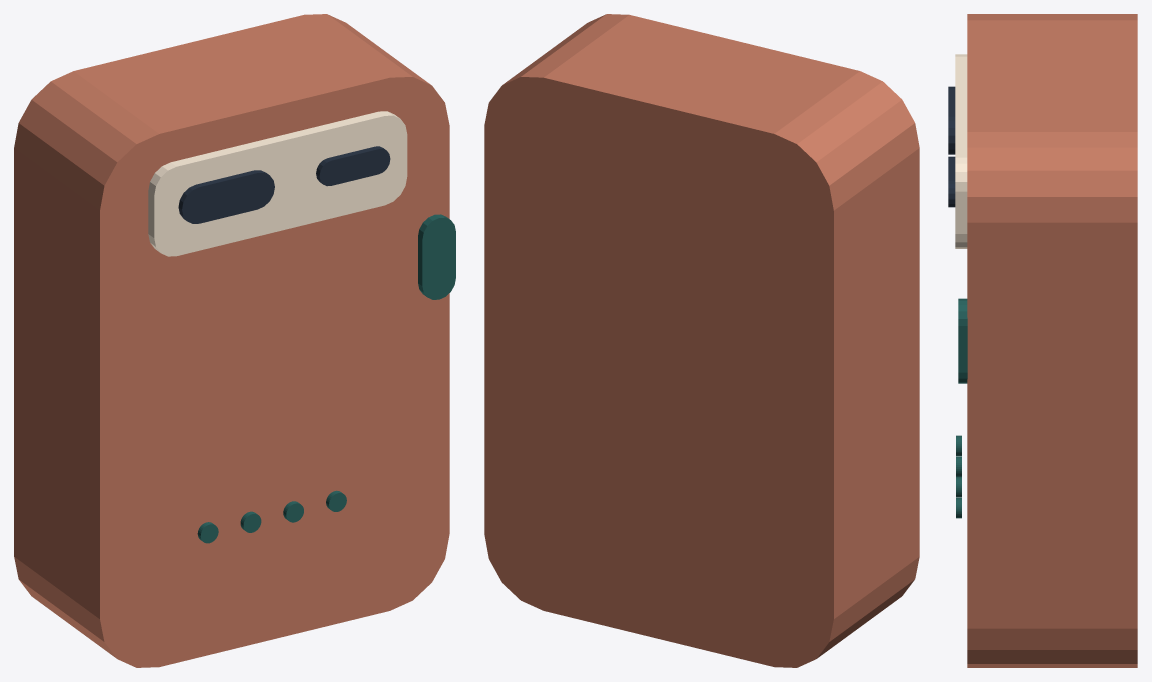
The model's file is powerbank.glb.
3 renders of one model, left to right at view 1: azimuth 30°, elevation 25°; view 2: azimuth 150°, elevation 25°; view 3: azimuth 270°, elevation 25°, orthographic.
Parts seen in each view (by area): view 1: body, port panel, port usb a, power key, port usb c; view 2: body; view 3: body, port panel, power key, port usb a, port usb c.
Part boxes in pixels (left/top/right/bottom): body: left=14, top=14, right=449, bottom=667; port panel: left=148, top=111, right=407, bottom=256; port usb a: left=178, top=170, right=274, bottom=223; power key: left=418, top=214, right=455, bottom=299; port usb c: left=316, top=146, right=390, bottom=186; body: left=484, top=14, right=919, bottom=667; body: left=967, top=14, right=1137, bottom=667; port panel: left=955, top=54, right=967, bottom=248; power key: left=958, top=298, right=967, bottom=383; port usb a: left=948, top=86, right=955, bottom=154; port usb c: left=948, top=156, right=955, bottom=207.
Bounding box in the file's own units: 0.945 × 1.37 × 0.4445.
